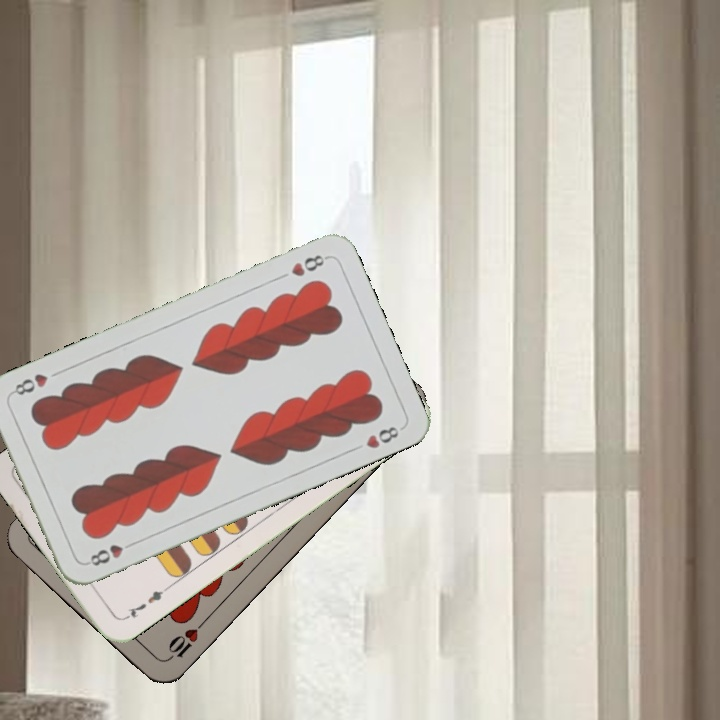E7: (119, 583, 170, 623)
H10: (163, 616, 208, 663)
H8: (82, 537, 138, 569), (287, 250, 331, 279)
